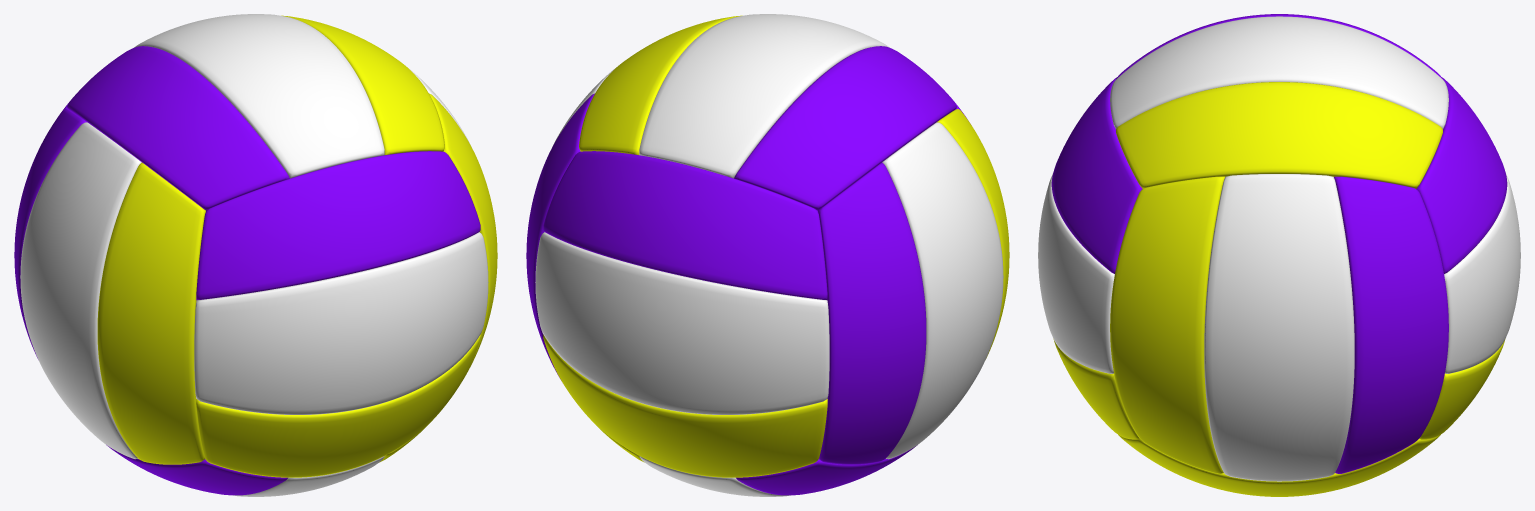
File: paiqiu.fbx
The picture shows the model from 3 angles, left to right: view 1: azimuth 30°, elevation 25°; view 2: azimuth 150°, elevation 25°; view 3: azimuth 270°, elevation 25°; orthographic projection.
Visible parts, largest first — view 1: Box01; view 2: Box01; view 3: Box01.
Part boxes in pixels (x1,y1,x2,y2): Box01: [14, 14, 497, 496]; Box01: [526, 14, 1009, 496]; Box01: [1038, 14, 1520, 496].
Bounding box in the file's own units: 15.46 × 15.46 × 15.46.
